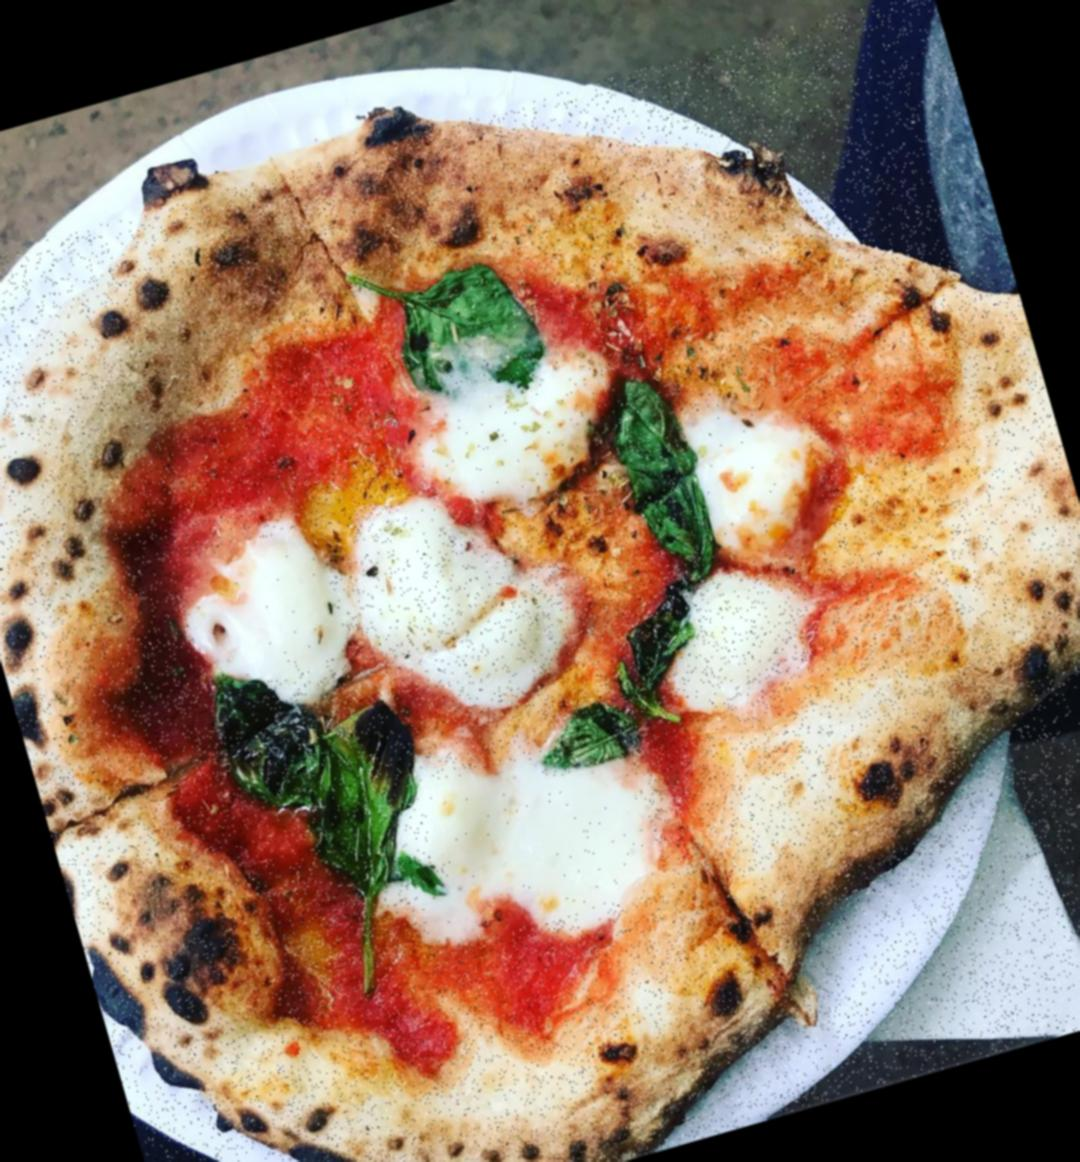Basil: (210, 646, 446, 924), (509, 597, 720, 780), (595, 358, 725, 591), (376, 246, 547, 409)
Cheese: (392, 729, 667, 951), (341, 484, 579, 728), (372, 318, 630, 534), (176, 525, 359, 722), (679, 388, 837, 575), (658, 557, 836, 711)
Pizza: (0, 0, 1080, 1162)
